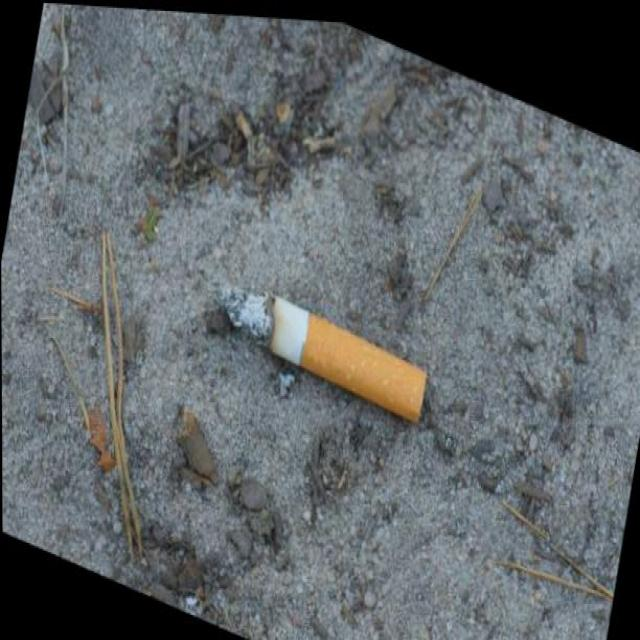cigarette: (246, 279, 433, 427)
